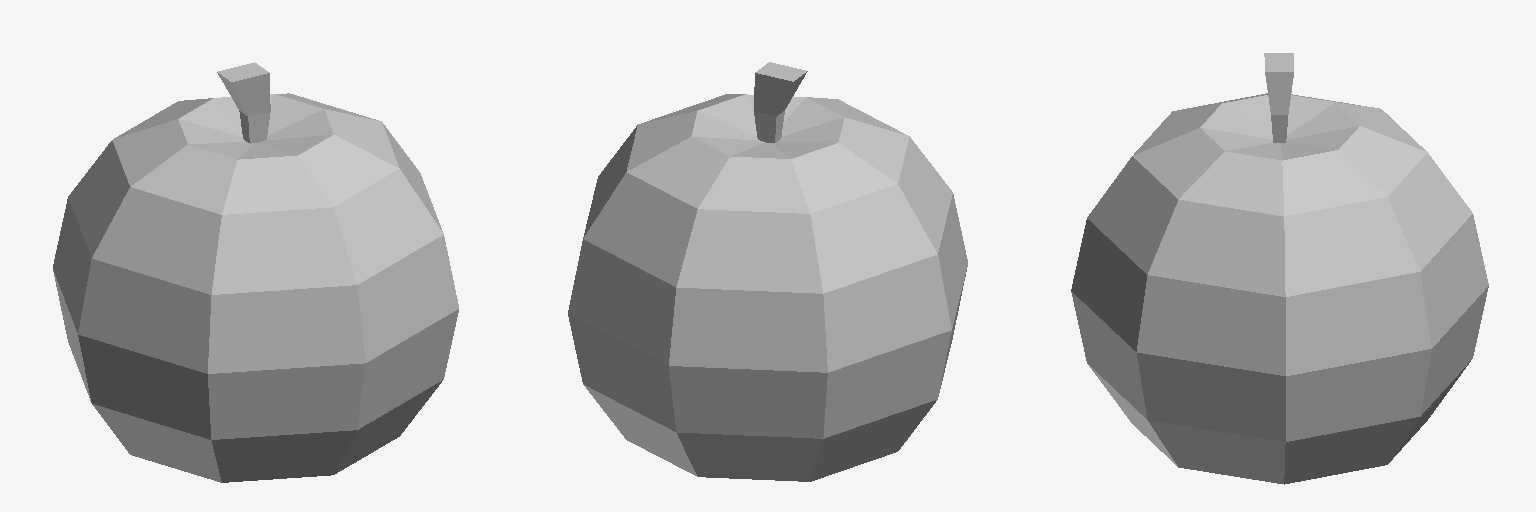
The model's file is low_green_apple.obj.
3 renders of one model, left to right at view 1: azimuth 30°, elevation 25°; view 2: azimuth 150°, elevation 25°; view 3: azimuth 270°, elevation 25°, orthographic.
Visible parts, largest first — view 1: Sphere_0; view 2: Sphere_0; view 3: Sphere_0.
Part boxes in pixels (left/top/right/bottom): Sphere_0: left=53, top=62, right=458, bottom=482; Sphere_0: left=568, top=62, right=967, bottom=481; Sphere_0: left=1071, top=53, right=1488, bottom=484.
Size of the model in its own units: 2 by 1.97 by 2.